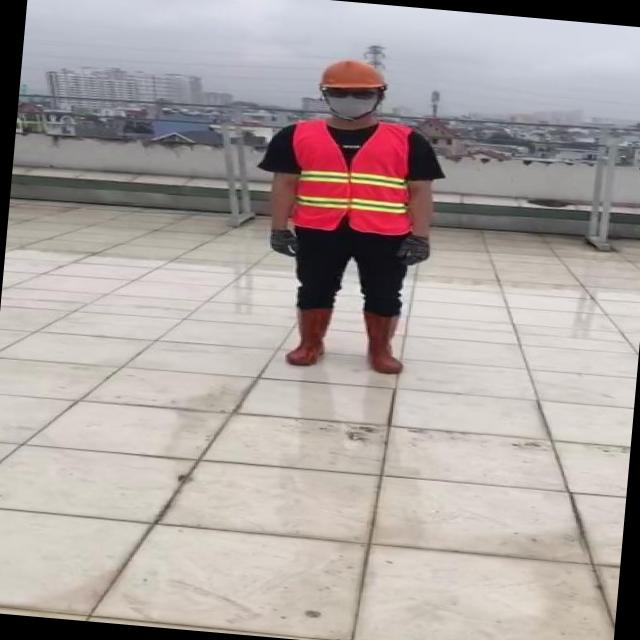hard_hat: (312, 54, 388, 92)
safety_vest: (288, 114, 418, 236)
vehicle: (234, 48, 461, 384)
work_boots: (354, 308, 412, 378), (284, 303, 335, 368)
